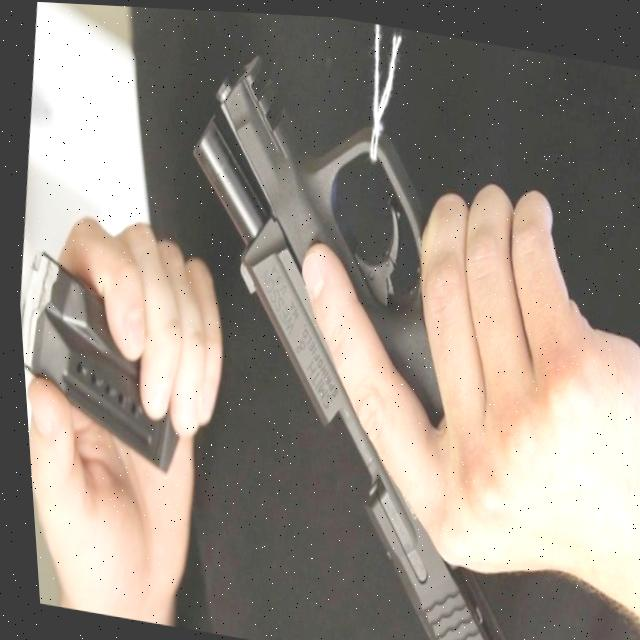pistol: (123, 32, 574, 640)
